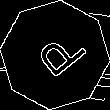P_SW: (24, 25, 86, 85)
